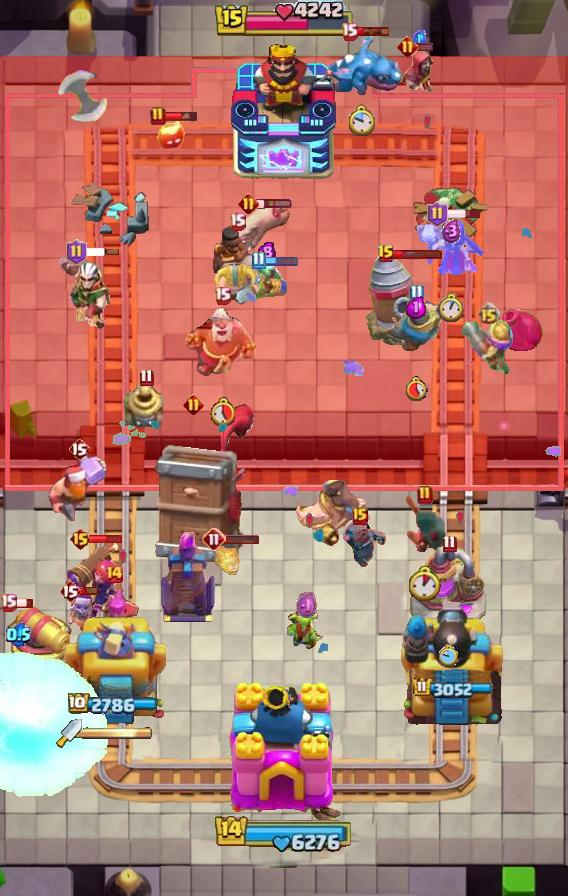archer-evolution: (89, 586, 139, 642)
axe: (41, 69, 109, 123)
bandit: (400, 493, 450, 557)
bar: (393, 249, 443, 260), (445, 208, 482, 220), (256, 198, 293, 210), (224, 533, 260, 545), (263, 255, 299, 267), (89, 533, 124, 545), (164, 110, 199, 122), (355, 26, 390, 37), (84, 247, 120, 257), (14, 597, 34, 609), (79, 585, 99, 596), (415, 42, 434, 52)
bar-level: (202, 527, 226, 551), (69, 527, 92, 551), (66, 239, 87, 265), (427, 201, 448, 227), (477, 302, 500, 325), (59, 579, 81, 603), (68, 437, 90, 461), (183, 394, 204, 415), (238, 193, 259, 214), (397, 36, 418, 57), (104, 564, 124, 584), (377, 244, 395, 264), (0, 593, 17, 612), (214, 286, 231, 305), (229, 212, 246, 231), (341, 22, 358, 41), (417, 485, 433, 505), (150, 106, 166, 126), (352, 507, 368, 525), (442, 534, 457, 553), (139, 368, 154, 387), (409, 284, 424, 303), (251, 251, 266, 270)
bomb: (494, 303, 546, 357)
cannoneer-tower: (397, 595, 509, 731)
clock: (409, 566, 441, 601), (347, 104, 375, 138), (438, 293, 464, 323), (210, 397, 235, 426), (404, 376, 428, 401), (439, 644, 459, 667)
dagger-duchess-tower: (62, 611, 166, 731)
dagger-duchess-tower-bar: (82, 726, 152, 740)
electro-dragon: (319, 34, 403, 98)
elite-barbarian: (213, 262, 261, 305)
elixir: (296, 591, 319, 620), (6, 622, 31, 647), (442, 219, 461, 244), (406, 296, 426, 319), (257, 241, 276, 263), (413, 30, 426, 47)
fire-spirit: (157, 120, 185, 152)
firecracker-evolution: (62, 538, 122, 624)
goblin: (287, 609, 327, 651)
hog: (227, 201, 293, 255)
king-tower: (222, 680, 346, 826), (230, 41, 338, 181)
king-tower-bar: (213, 0, 355, 40), (214, 813, 354, 853)
knight: (386, 301, 446, 352)
lava-pup: (211, 541, 243, 577)
lumberjack: (47, 453, 111, 523)
mini-pekka: (332, 515, 388, 571)
musketeer: (461, 317, 515, 377)
ram-rider: (211, 223, 263, 297)
skeleton-evolution: (66, 593, 98, 633)
spear-goblin: (241, 258, 291, 302)
tower-bar: (68, 693, 160, 716), (413, 677, 493, 698)
witch: (417, 217, 485, 279)
wizard: (401, 49, 437, 95)
zappy: (123, 383, 169, 429)
